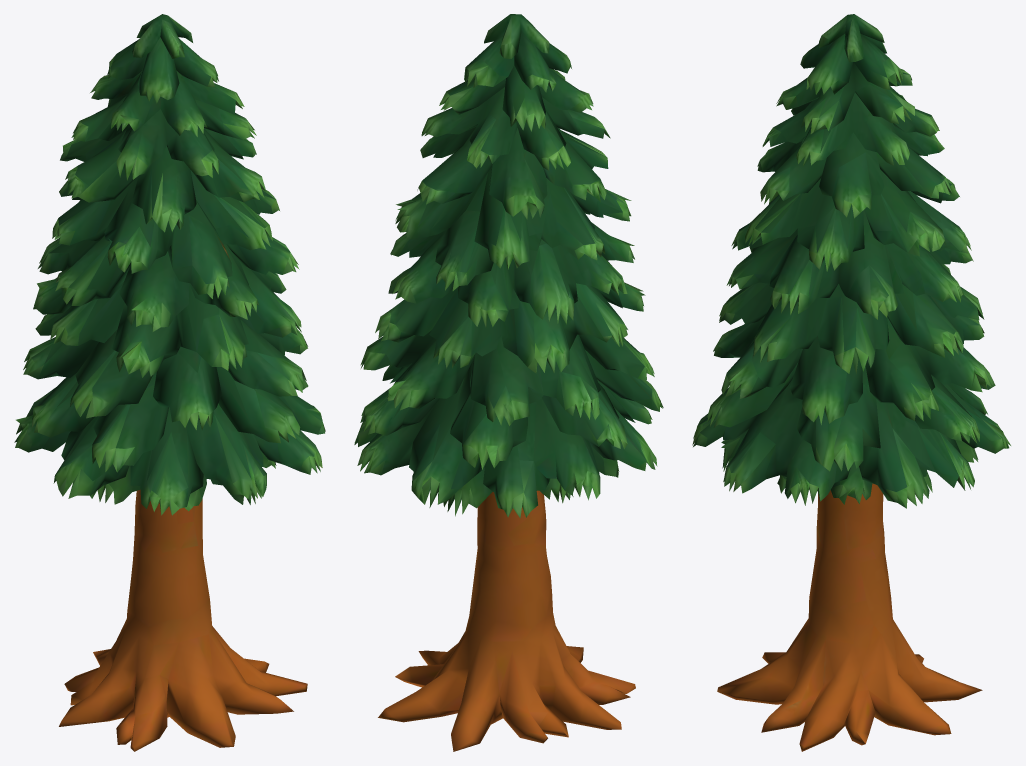
The model's file is tree_pine.glb.
3 renders of one model, left to right at view 1: azimuth 30°, elevation 25°; view 2: azimuth 150°, elevation 25°; view 3: azimuth 270°, elevation 25°, orthographic.
Parts seen in each view (by area): view 1: tripo_node_f86cd664-3542-4aa2-ba8d-173a7cef4448; view 2: tripo_node_f86cd664-3542-4aa2-ba8d-173a7cef4448; view 3: tripo_node_f86cd664-3542-4aa2-ba8d-173a7cef4448.
Boxes of the visible parts, x1,y1,x2,y2 form: tripo_node_f86cd664-3542-4aa2-ba8d-173a7cef4448: (14,14,325,751); tripo_node_f86cd664-3542-4aa2-ba8d-173a7cef4448: (354,14,663,751); tripo_node_f86cd664-3542-4aa2-ba8d-173a7cef4448: (692,14,1010,751).
Bounding box in the file's own units: 2.15 × 5.49 × 2.33.
Materials: 1 (1 with a texture image).
